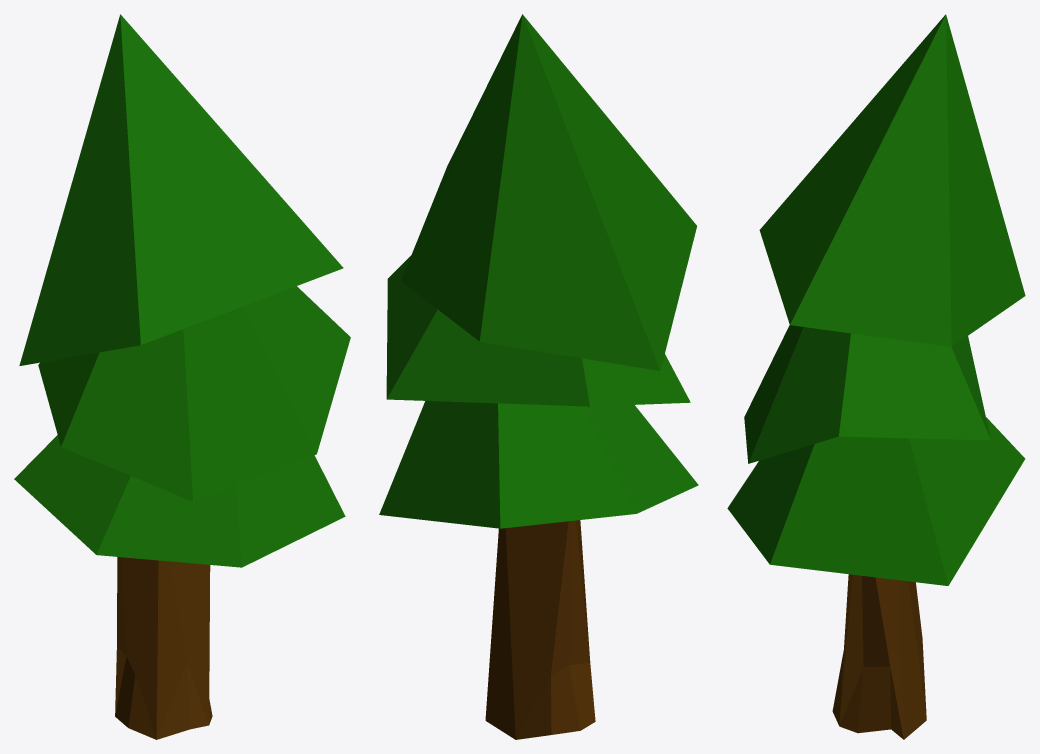
The model's file is Pine tree#5.fbx.
The picture shows the model from 3 angles, left to right: view 1: azimuth 30°, elevation 25°; view 2: azimuth 150°, elevation 25°; view 3: azimuth 270°, elevation 25°; orthographic projection. The views are drawn at different scales.
Parts seen in each view (by area): view 1: Pine tree#5; view 2: Pine tree#5; view 3: Pine tree#5.
Part boxes in pixels (x1=…): Pine tree#5: x1=14, y1=14, x2=350, y2=739; Pine tree#5: x1=379, y1=14, x2=698, y2=739; Pine tree#5: x1=727, y1=14, x2=1025, y2=739.
Bounding box in the file's own units: 439 × 984 × 381.
